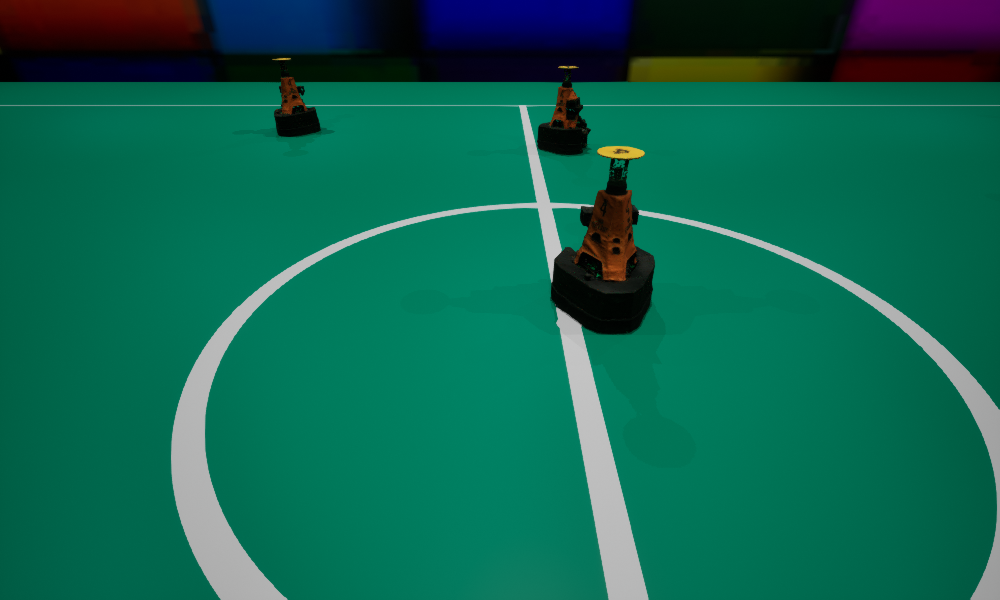0 orange robot TechUnited: (551, 146, 654, 333), (537, 66, 590, 154), (272, 58, 320, 136)
